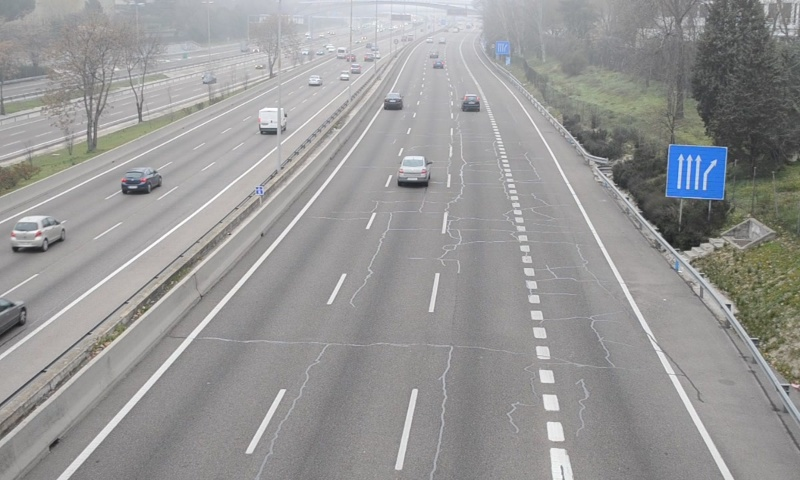car: (398, 156, 429, 186), (461, 94, 480, 112), (383, 92, 402, 110)
